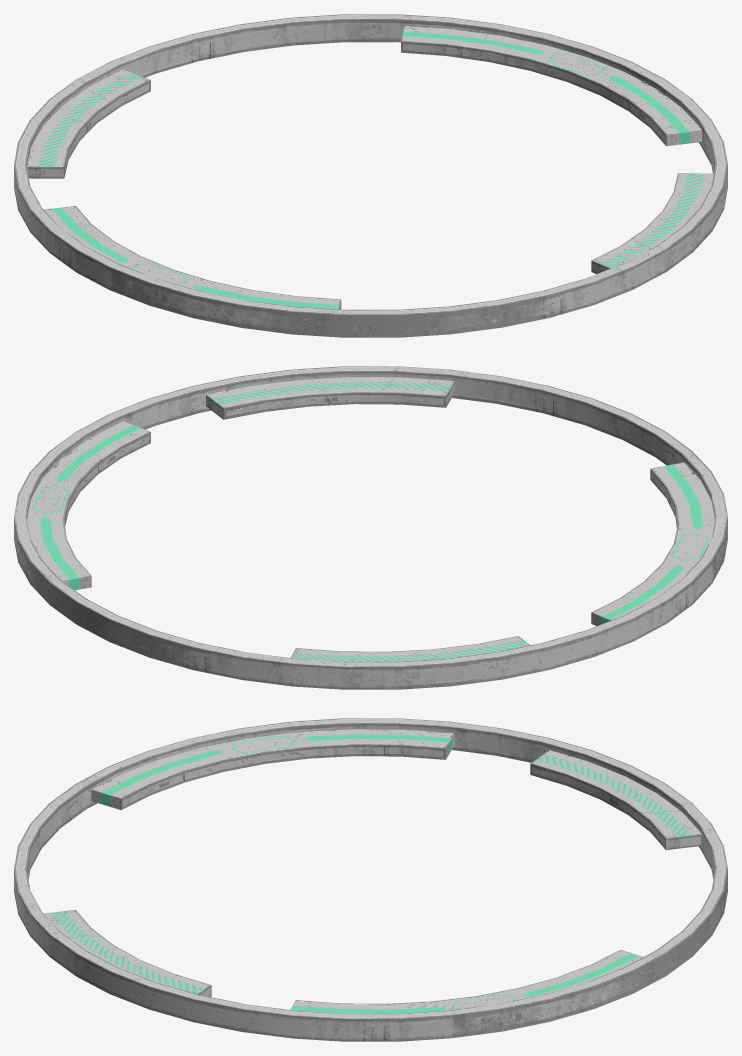
File: Lumo_ring_mid_out.fbx
The picture shows the model from 3 angles, top to bottom: view 1: azimuth 30°, elevation 25°; view 2: azimuth 150°, elevation 25°; view 3: azimuth 270°, elevation 25°; orthographic projection.
Visible parts, largest first — view 1: Lumo_ring_mid_out; view 2: Lumo_ring_mid_out; view 3: Lumo_ring_mid_out.
Part boxes in pixels (x1,y1,x2,y2): Lumo_ring_mid_out: [14, 14, 727, 337]; Lumo_ring_mid_out: [14, 366, 727, 689]; Lumo_ring_mid_out: [14, 718, 727, 1041].
Bounding box in the file's own units: 56.85 × 2 × 57.
Materials: 1 (1 with a texture image).
